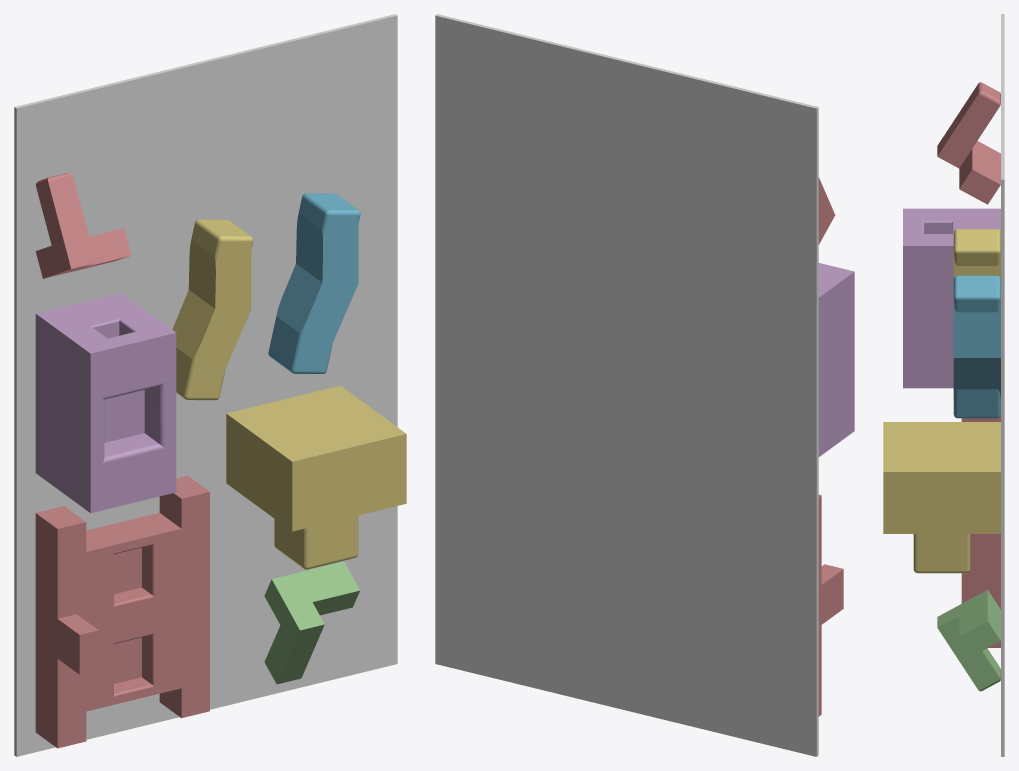
The model's file is pickup_layout.glb.
3 views of the same model, side by side, from view 1: azimuth 30°, elevation 25°; view 2: azimuth 150°, elevation 25°; view 3: azimuth 270°, elevation 25° (orthographic). The views are drawn at different scales.
Parts seen in each view (by area): view 1: world, 0.obj, 3.obj, 6.obj, 2.obj, 1.obj, 4.obj, 5.obj; view 2: world, 3.obj, 0.obj; view 3: 6.obj, 3.obj, 2.obj, 5.obj, 4.obj, world, 0.obj, 1.obj.
Part boxes in pixels (box(x1,y1,x2,y2)): world: box(14, 14, 397, 756); 0.obj: box(35, 476, 209, 748); 3.obj: box(35, 292, 176, 513); 6.obj: box(226, 385, 406, 569); 2.obj: box(268, 193, 360, 373); 1.obj: box(172, 219, 253, 400); 4.obj: box(264, 561, 359, 684); 5.obj: box(35, 173, 131, 278); world: box(435, 14, 818, 756); 3.obj: box(818, 263, 854, 456); 0.obj: box(818, 494, 843, 716); 6.obj: box(883, 422, 1000, 573); 3.obj: box(903, 208, 1000, 388); 2.obj: box(953, 275, 1000, 418); 5.obj: box(937, 82, 1000, 204); 4.obj: box(937, 590, 1000, 691); world: box(1001, 14, 1004, 756); 0.obj: box(961, 414, 1000, 647); 1.obj: box(953, 229, 1000, 278).
Bounding box in the file's own units: 20 × 32.5 × 6.2.
